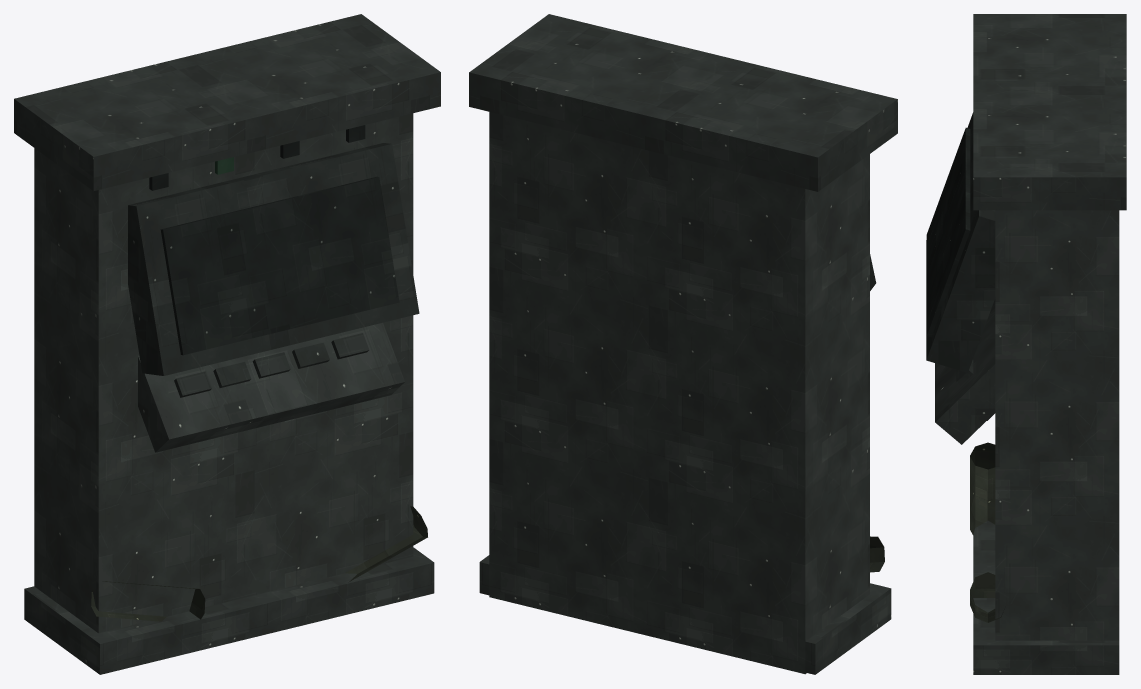
Rendered from wall_console.glb.
3 renders of one model, left to right at view 1: azimuth 30°, elevation 25°; view 2: azimuth 150°, elevation 25°; view 3: azimuth 270°, elevation 25°, orthographic. The views are drawn at different scales.
Parts seen in each view (by area): view 1: wall_console; view 2: wall_console; view 3: wall_console.
Part boxes in pixels (x1=…): wall_console: x1=14, y1=14, x2=440, y2=674; wall_console: x1=469, y1=14, x2=897, y2=674; wall_console: x1=926, y1=14, x2=1126, y2=674.
Size of the model in its own units: 1.12 by 1.6 by 0.5782.
1 material, 1 textured.
